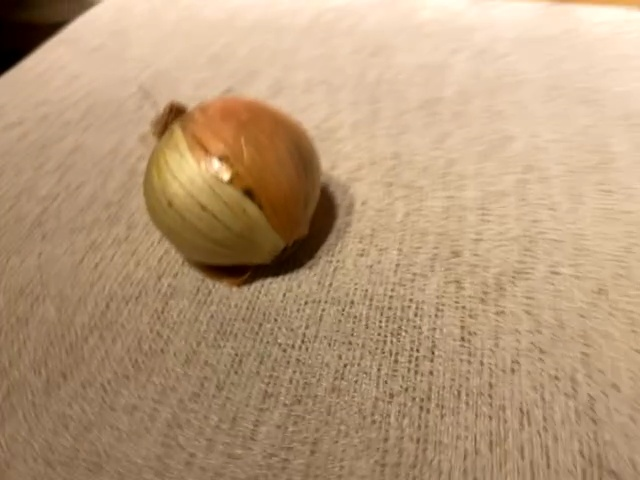onion: (133, 90, 328, 278)
